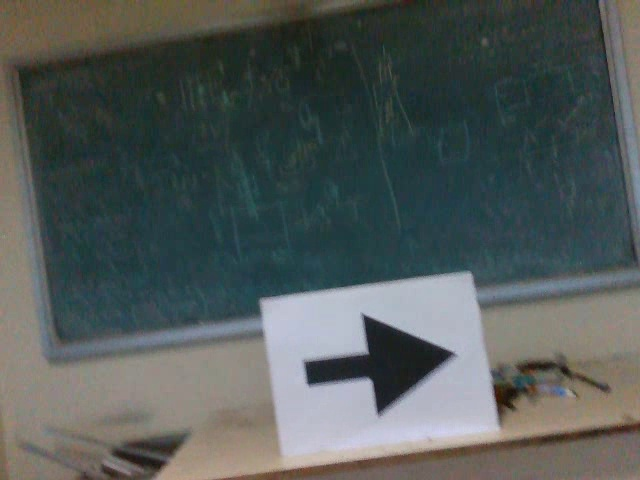Right: (293, 307, 463, 420)
